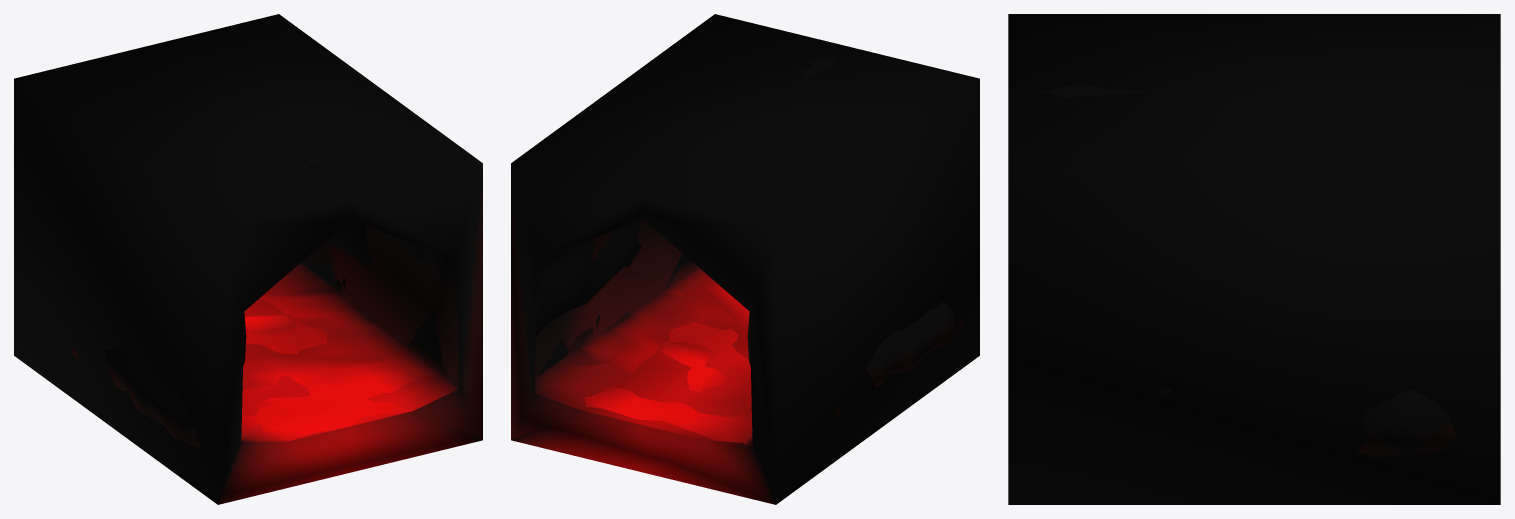
Rendered from JD_Cave_A_Tunnel_6x8_01.fbx.
3 views of the same model, side by side, from view 1: azimuth 30°, elevation 25°; view 2: azimuth 150°, elevation 25°; view 3: azimuth 270°, elevation 25° (orthographic). The views are drawn at different scales.
Visible parts, largest first — view 1: C_JD_Cave_A_Tunnel_6x8_01, JD_Cave_A_Tunnel_6x8_01; view 2: C_JD_Cave_A_Tunnel_6x8_01, JD_Cave_A_Tunnel_6x8_01; view 3: C_JD_Cave_A_Tunnel_6x8_01, JD_Cave_A_Tunnel_6x8_01.
Boxes of the visible parts, x1,y1,x2,y2 form: C_JD_Cave_A_Tunnel_6x8_01: (14,14,482,504); JD_Cave_A_Tunnel_6x8_01: (71,163,456,447); C_JD_Cave_A_Tunnel_6x8_01: (511,14,979,504); JD_Cave_A_Tunnel_6x8_01: (534,55,963,445); C_JD_Cave_A_Tunnel_6x8_01: (1008,14,1500,504); JD_Cave_A_Tunnel_6x8_01: (1039,85,1455,455).
Size of the model in its own units: 6.56 by 6.11 by 8.
